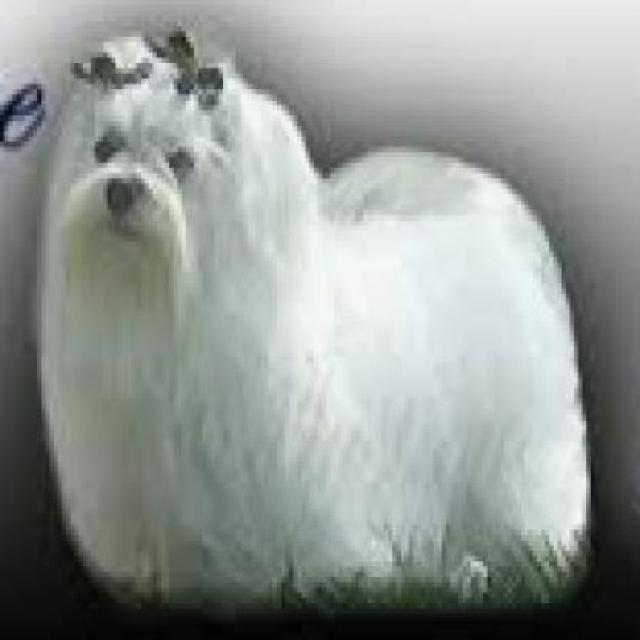Dog: (35, 30, 597, 628)
